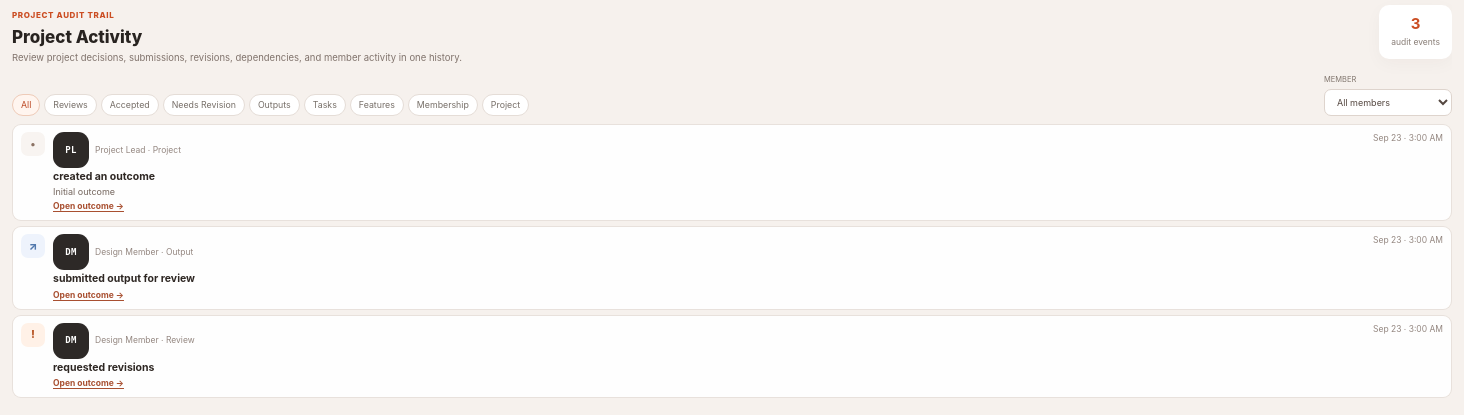
Scenario: ProjectActivityPanel › filters Figma audit categories and members using loaded safe activity
This screenshot has width=1464, height=415.
expect the text "created an outcome" is shown: met, box [53,170,155,183]
Click the button "Outputs": (274, 105) [249,94,300,116]
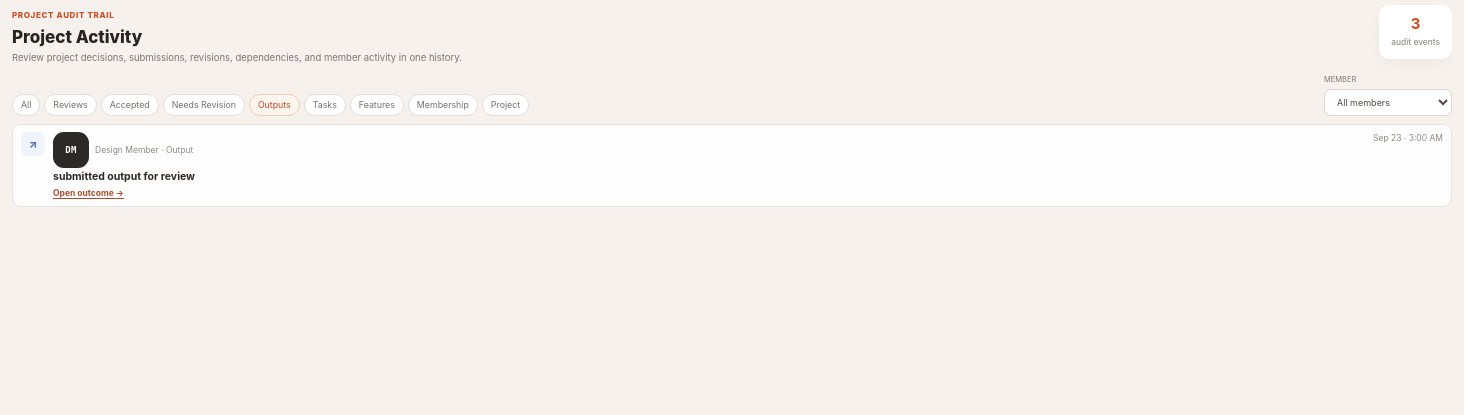
expect the text "submitted output for review" is shown: met, box [53,170,195,183]
expect the text "created an outcome" is gone: met
Click the button "Needs Revision": (204, 105) [163,94,245,116]
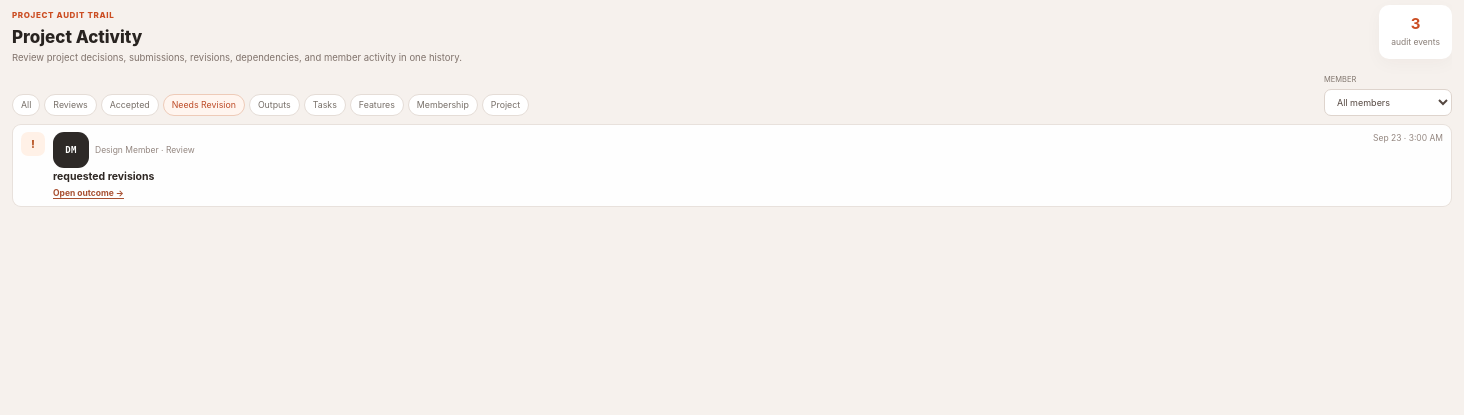
expect the text "requested revisions" is shown: met, box [53,170,154,183]
expect the text "submitted output for review" is gone: met
Click the button "All": (26, 105) [12,94,40,116]
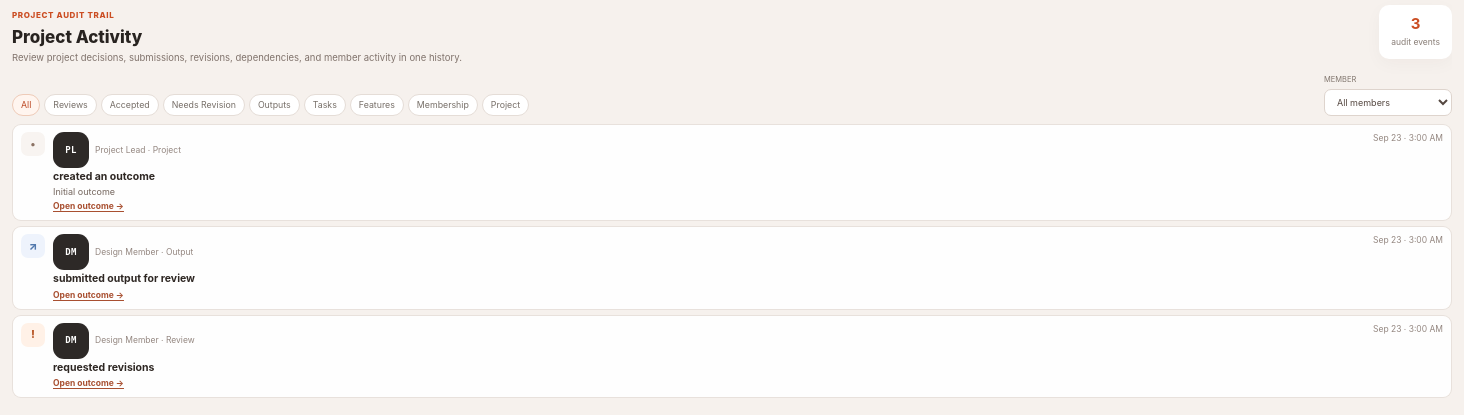
Select "Project Lead" in the dropdown labelled "Member": (1388, 103) [1324,89,1452,116]
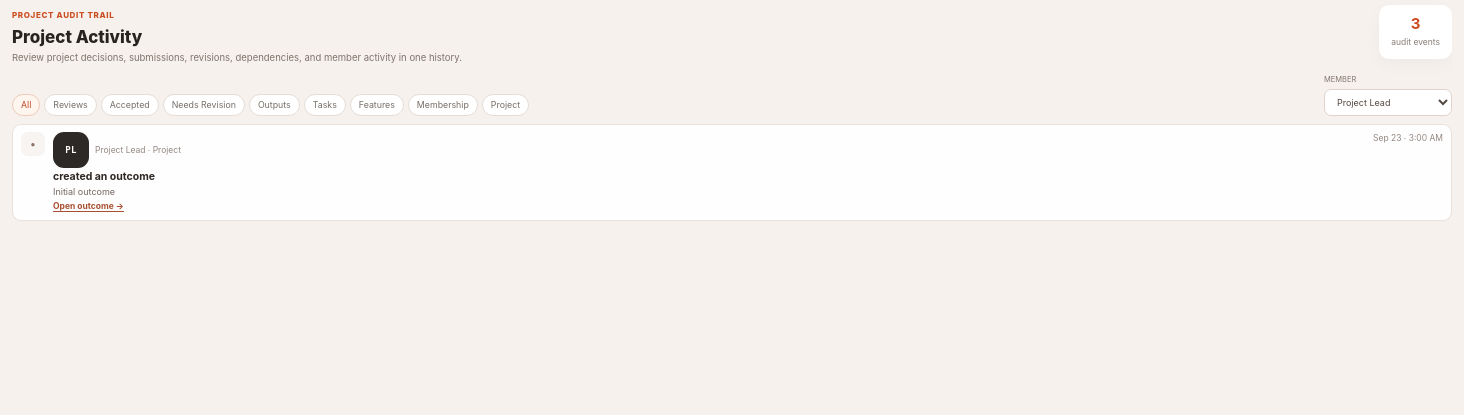
expect the text "created an outcome" is shown: met, box [53,170,155,183]
expect the text "requested revisions" is gone: met
